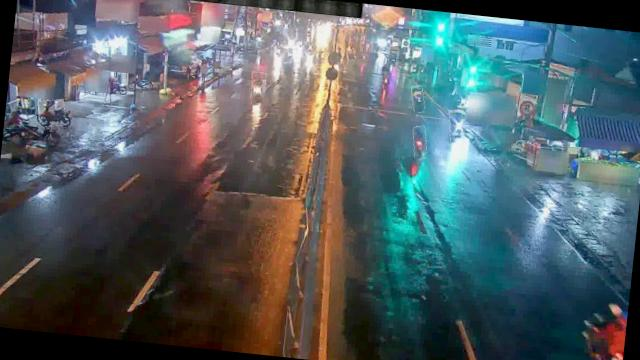Bike: (36, 98, 66, 128), (412, 126, 429, 160), (448, 110, 465, 144), (250, 72, 266, 106), (410, 86, 428, 114)
